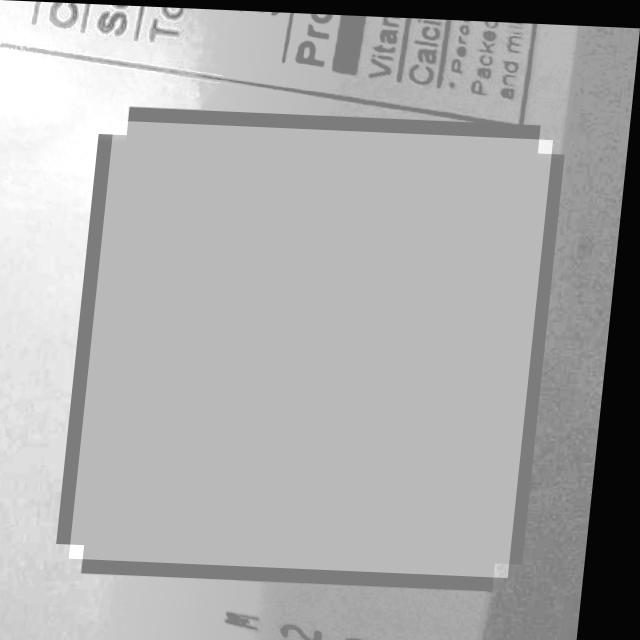qr_code: (81, 119, 556, 573)
